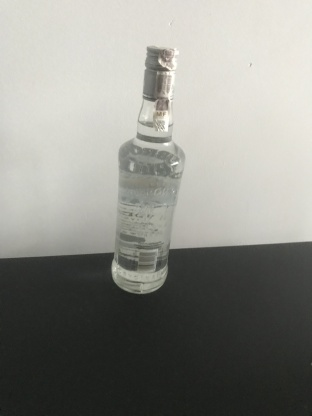nakretka: (141, 43, 181, 102)
